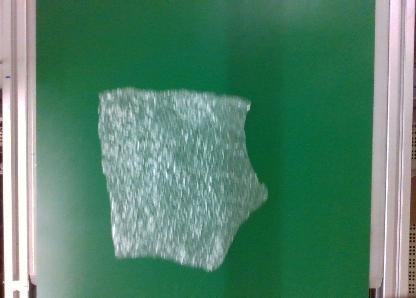Others: (96, 87, 268, 275)
